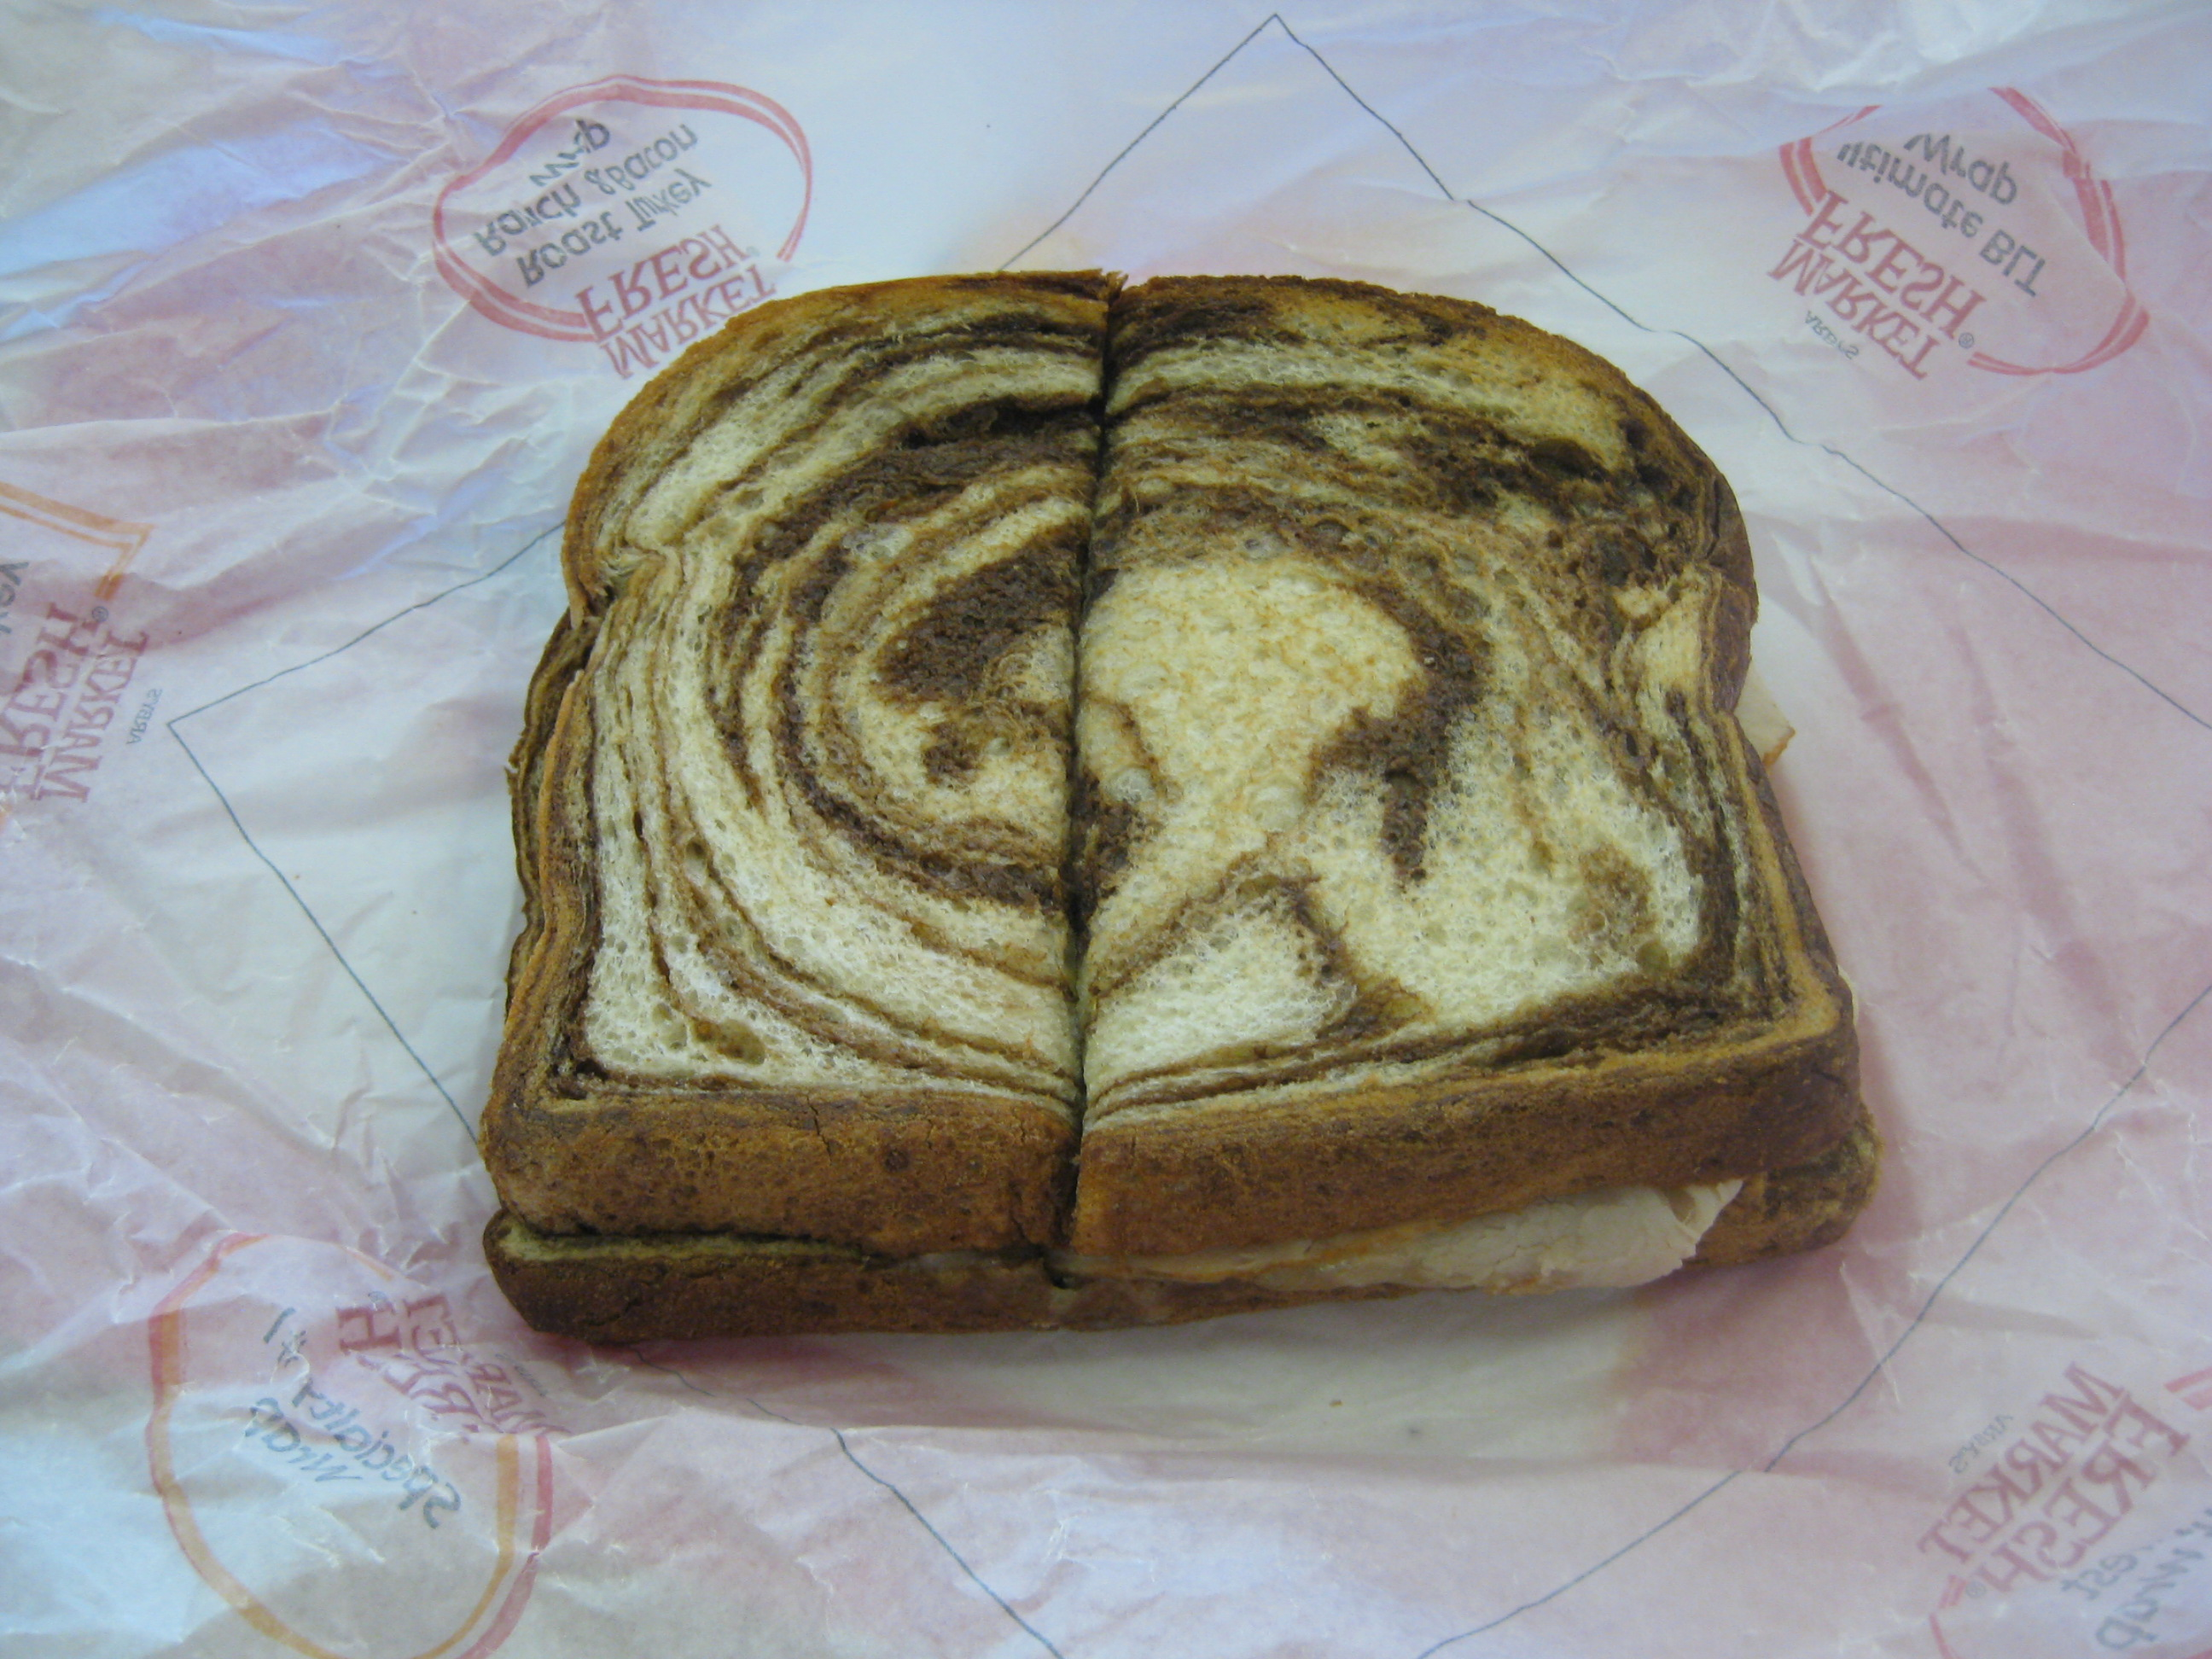sandwich: (477, 211, 1952, 1333)
